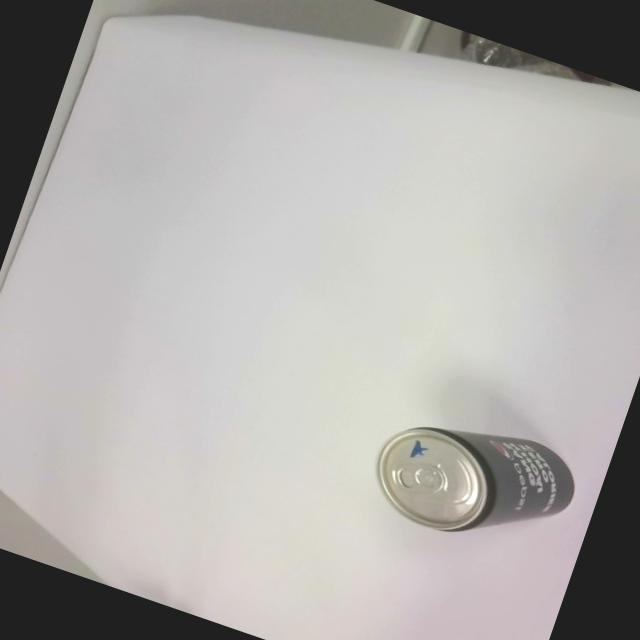debris: (358, 392, 586, 570)
